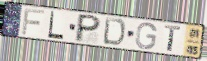D: (102, 16, 126, 47)
F: (21, 7, 46, 36)
G: (134, 21, 158, 50)
L: (47, 10, 65, 41)
P: (73, 13, 103, 43)
T: (163, 25, 183, 54)
